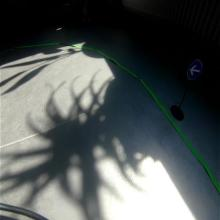left: (186, 59, 203, 80)
